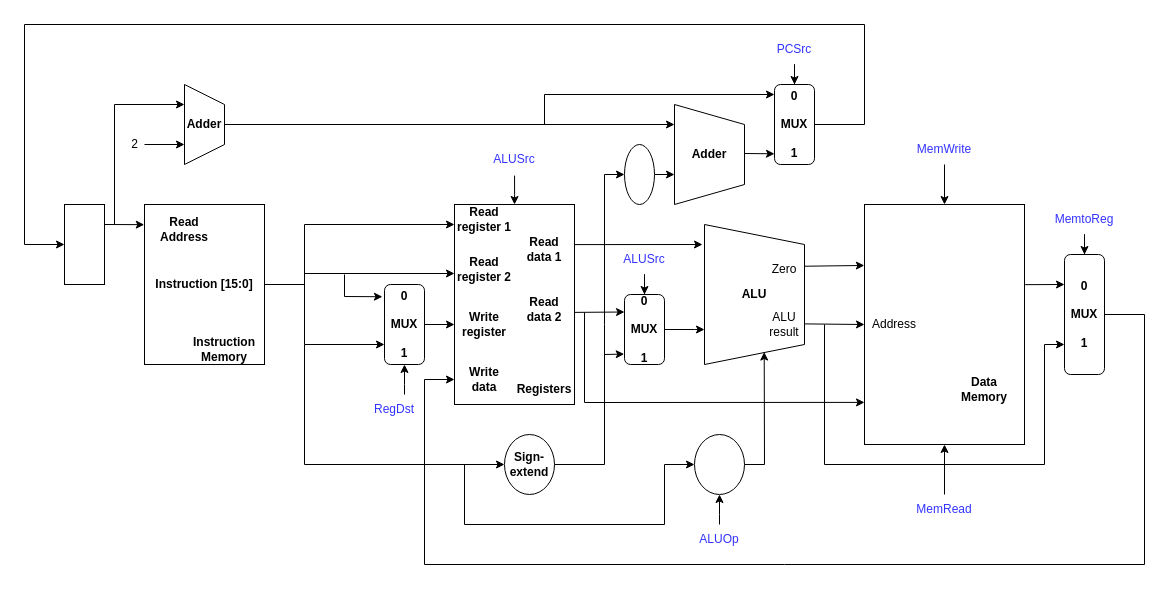
The diagram is 1170 pixels wide and 590 high, and some of its shapes have lost their labels. Each missing label, with the centre of its shape:
"ALU control" goes at (719,464).
"PC" goes at (84,244).
"Shift Left 1" goes at (639,174).
